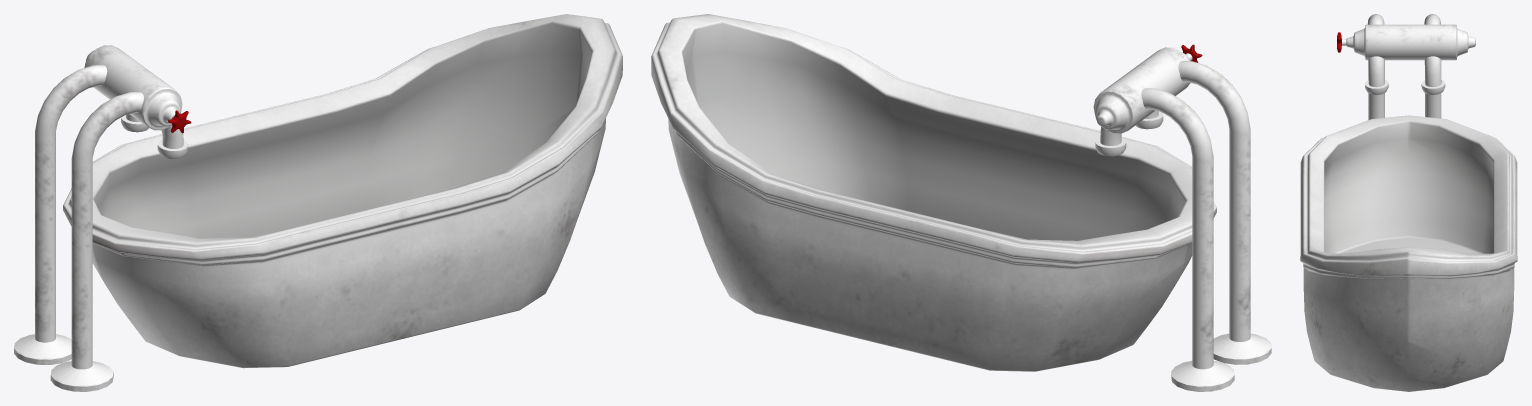
File: Bathroom_Kuvet.fbx
3 renders of one model, left to right at view 1: azimuth 30°, elevation 25°; view 2: azimuth 150°, elevation 25°; view 3: azimuth 270°, elevation 25°, orthographic. The views are drawn at different scales.
Visible parts, largest first — view 1: Plane.011, Cylinder.020, Cylinder.023, Cylinder.021; view 2: Plane.011, Cylinder.023, Cylinder.020, Cylinder.021; view 3: Plane.011, Cylinder.021, Cylinder.020, Cylinder.023.
Part boxes in pixels (x1=…): Plane.011: x1=63, y1=14, x2=622, y2=368; Cylinder.020: x1=50, y1=92, x2=188, y2=391; Cylinder.023: x1=14, y1=65, x2=148, y2=364; Cylinder.021: x1=84, y1=45, x2=182, y2=130; Plane.011: x1=651, y1=14, x2=1216, y2=371; Cylinder.023: x1=1095, y1=88, x2=1234, y2=391; Cylinder.020: x1=1135, y1=61, x2=1271, y2=364; Cylinder.021: x1=1093, y1=47, x2=1190, y2=133; Plane.011: x1=1300, y1=115, x2=1517, y2=391; Cylinder.021: x1=1346, y1=24, x2=1475, y2=60; Cylinder.020: x1=1365, y1=14, x2=1388, y2=119; Cylinder.023: x1=1421, y1=14, x2=1445, y2=118.
Size of the model in its own units: 251 by 116 by 107.
1 material, 1 textured.
